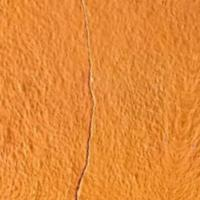crack: (55, 63, 99, 199)
